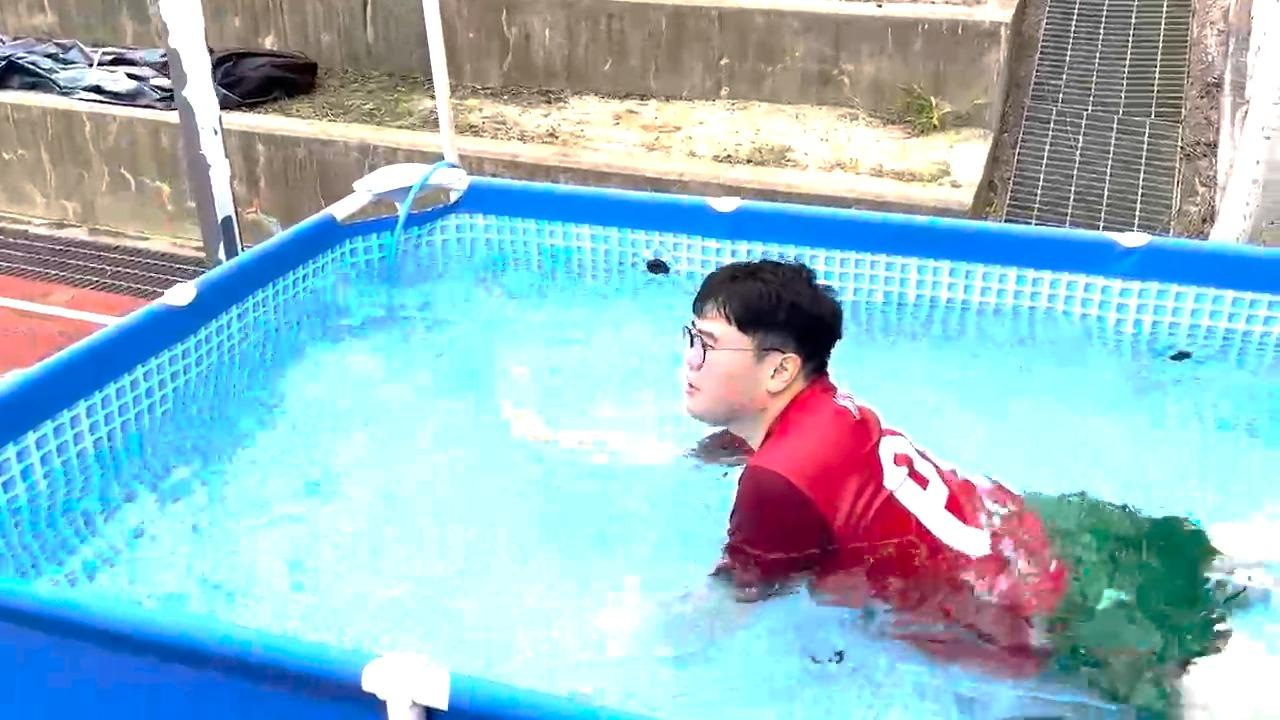Swimming: (597, 225, 1278, 714)
